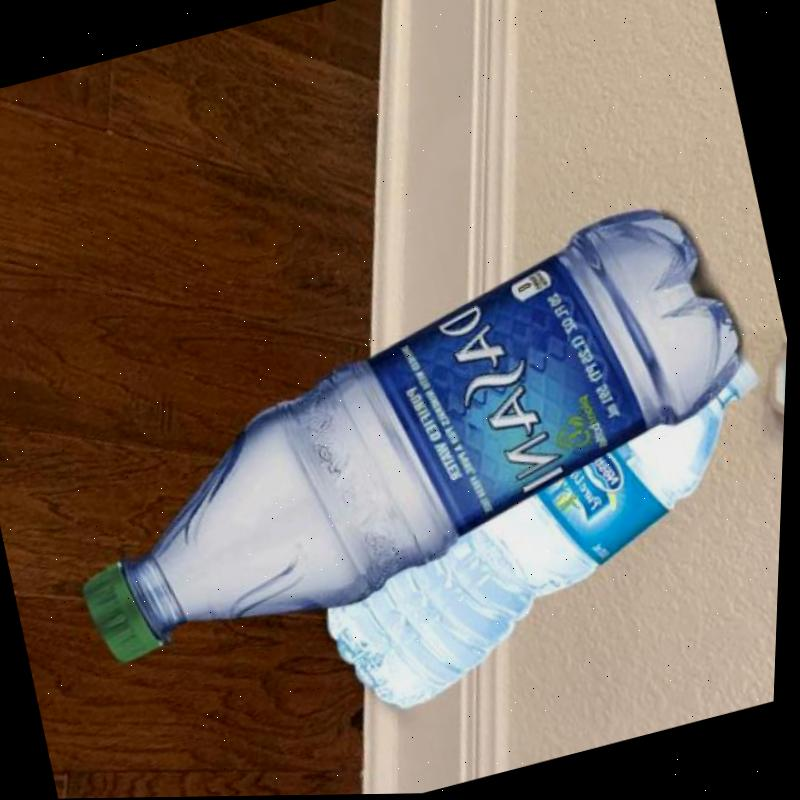botella: (20, 185, 786, 672), (288, 340, 790, 729)
